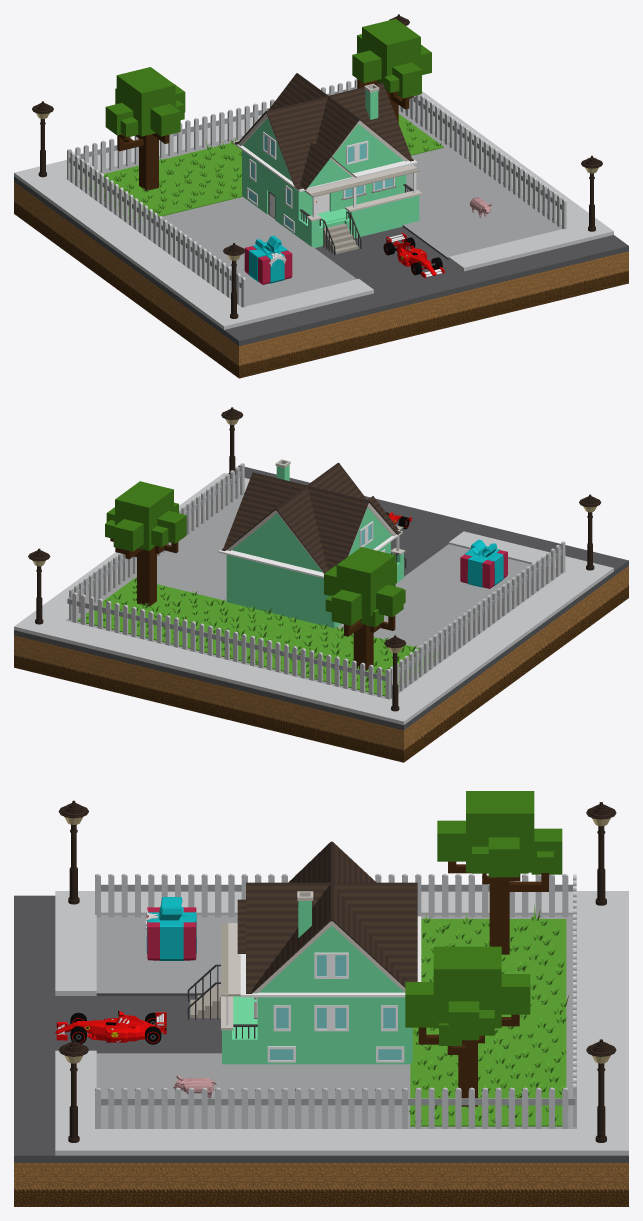
3 views of the same model, one above another, from view 1: azimuth 30°, elevation 25°; view 2: azimuth 150°, elevation 25°; view 3: azimuth 270°, elevation 25° (orthographic). The views are drawn at different scales.
Parts seen in each view (by area): view 1: Cube.004, Cube.352, OBJRANDOM_GIANT_PRESENT, VEHICLES_FORMULA_1; view 2: Cube.004, Cube.352, OBJRANDOM_GIANT_PRESENT; view 3: Cube.004, Cube.352, OBJRANDOM_GIANT_PRESENT, VEHICLES_FORMULA_1.
Boxes of the visible parts, x1,y1,x2,y2 form: Cube.004: [14, 14, 628, 378]; Cube.352: [233, 73, 422, 255]; OBJRANDOM_GIANT_PRESENT: [244, 235, 292, 284]; VEHICLES_FORMULA_1: [383, 232, 444, 278]; Cube.004: [14, 407, 628, 762]; Cube.352: [218, 459, 406, 627]; OBJRANDOM_GIANT_PRESENT: [460, 539, 507, 588]; Cube.004: [14, 791, 628, 1206]; Cube.352: [187, 841, 421, 1064]; OBJRANDOM_GIANT_PRESENT: [145, 897, 196, 960]; VEHICLES_FORMULA_1: [55, 1011, 166, 1044].
Bounding box in the file's own units: 4000 × 1617 × 4000.
37 materials, 3 textured.
